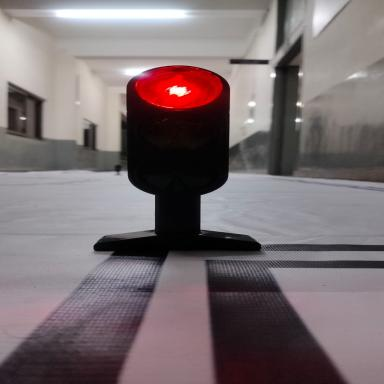traffic red: (120, 61, 258, 117)
